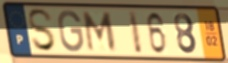6: (145, 11, 169, 56)
8: (173, 12, 198, 55)
G: (56, 8, 85, 54)
I: (127, 9, 145, 56)
M: (82, 10, 118, 53)
S: (26, 8, 58, 54)
